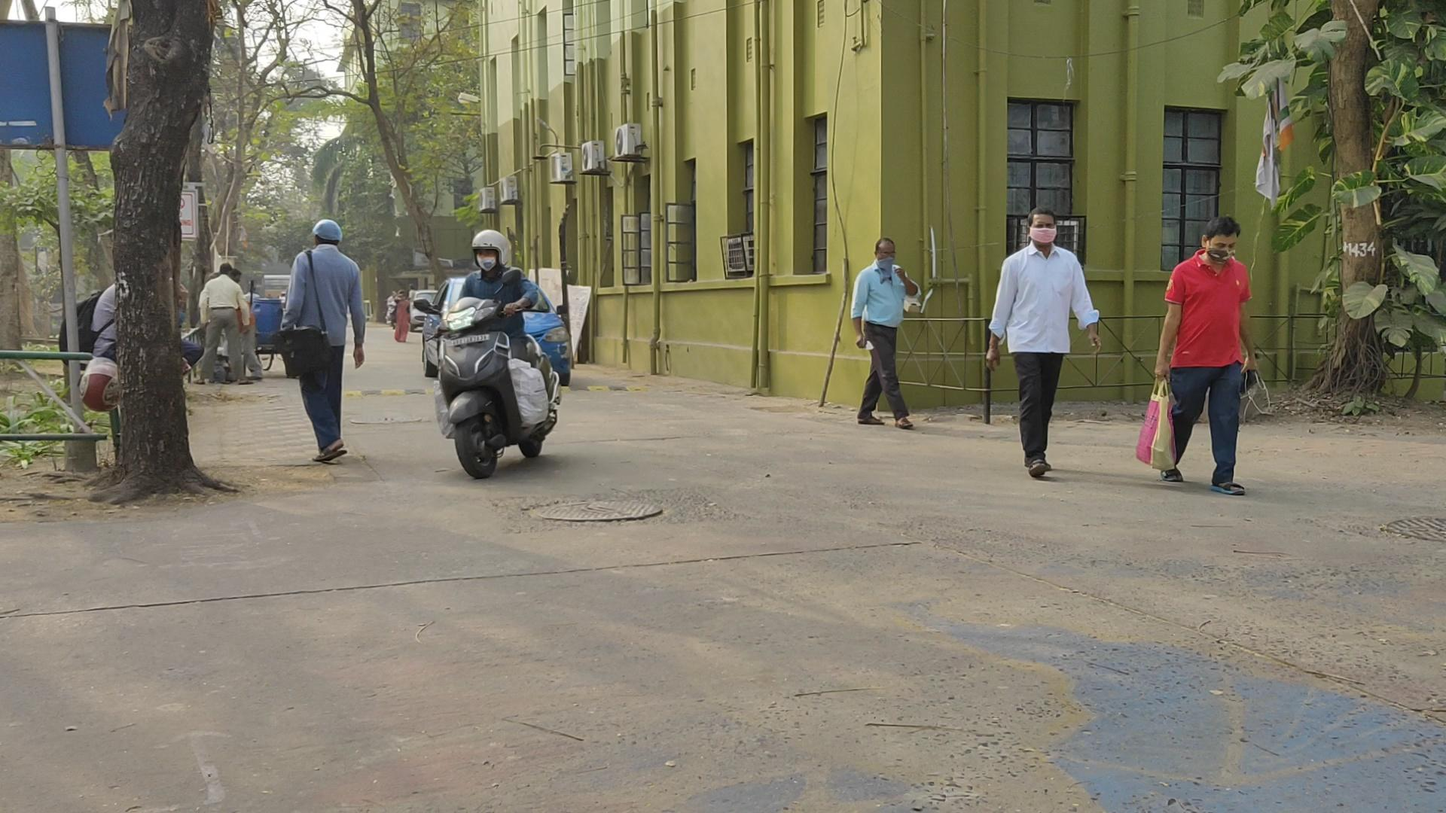bike: (412, 230, 560, 480)
car: (421, 277, 574, 386)
